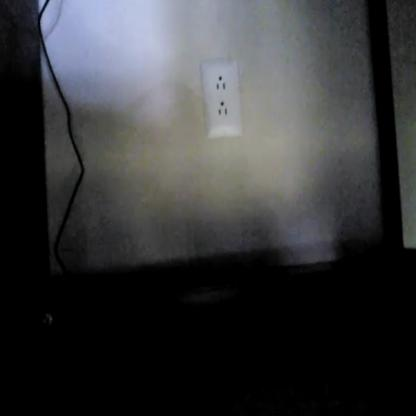OUTLET: (199, 62, 242, 139)
